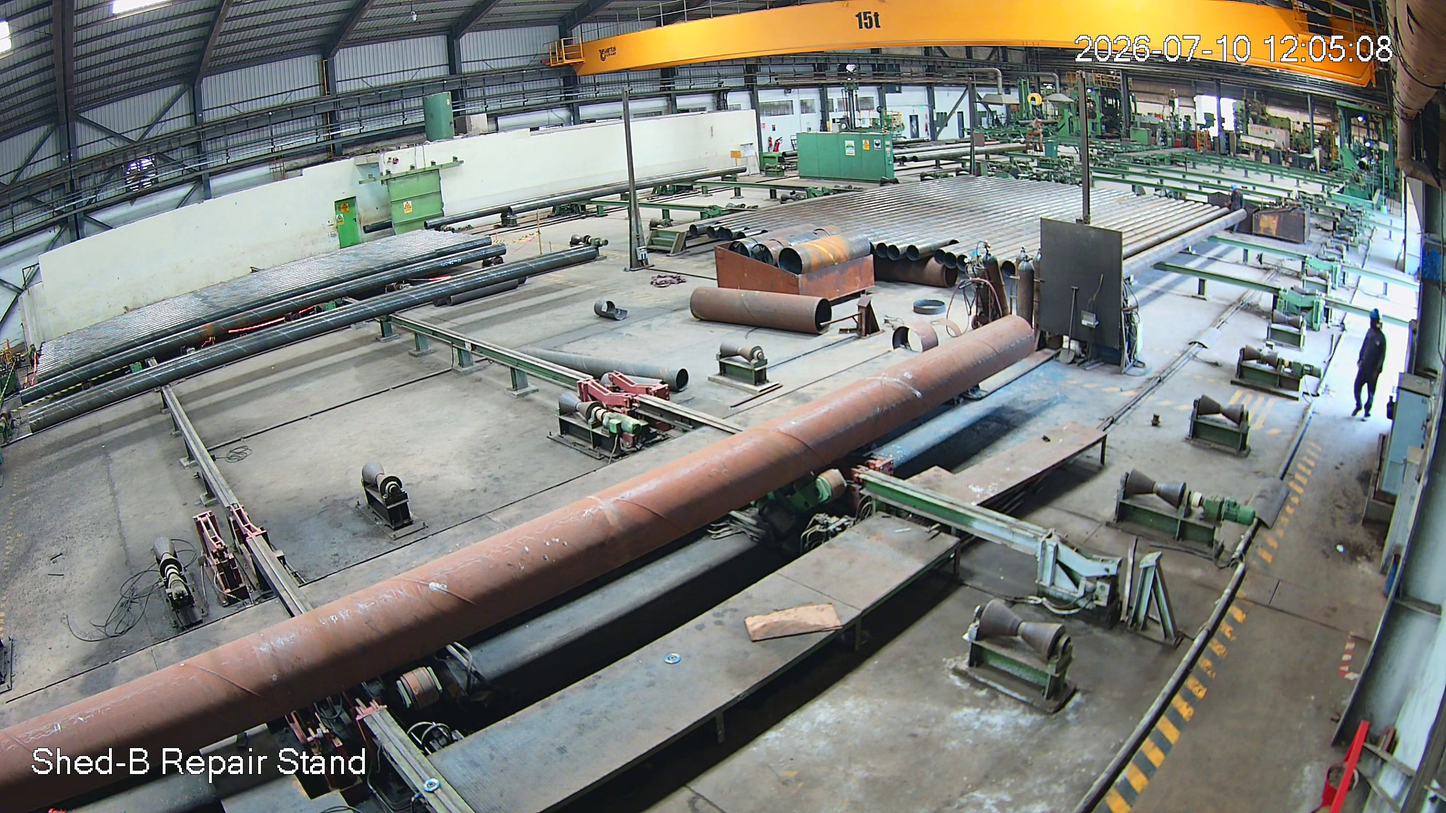Helmet: (1362, 301, 1389, 340)
Person: (1360, 302, 1389, 422)
